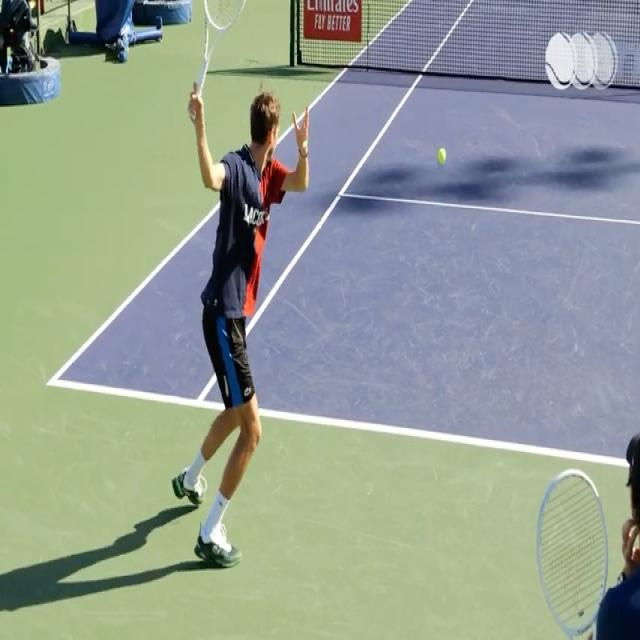forehand-ready: (173, 2, 311, 559)
